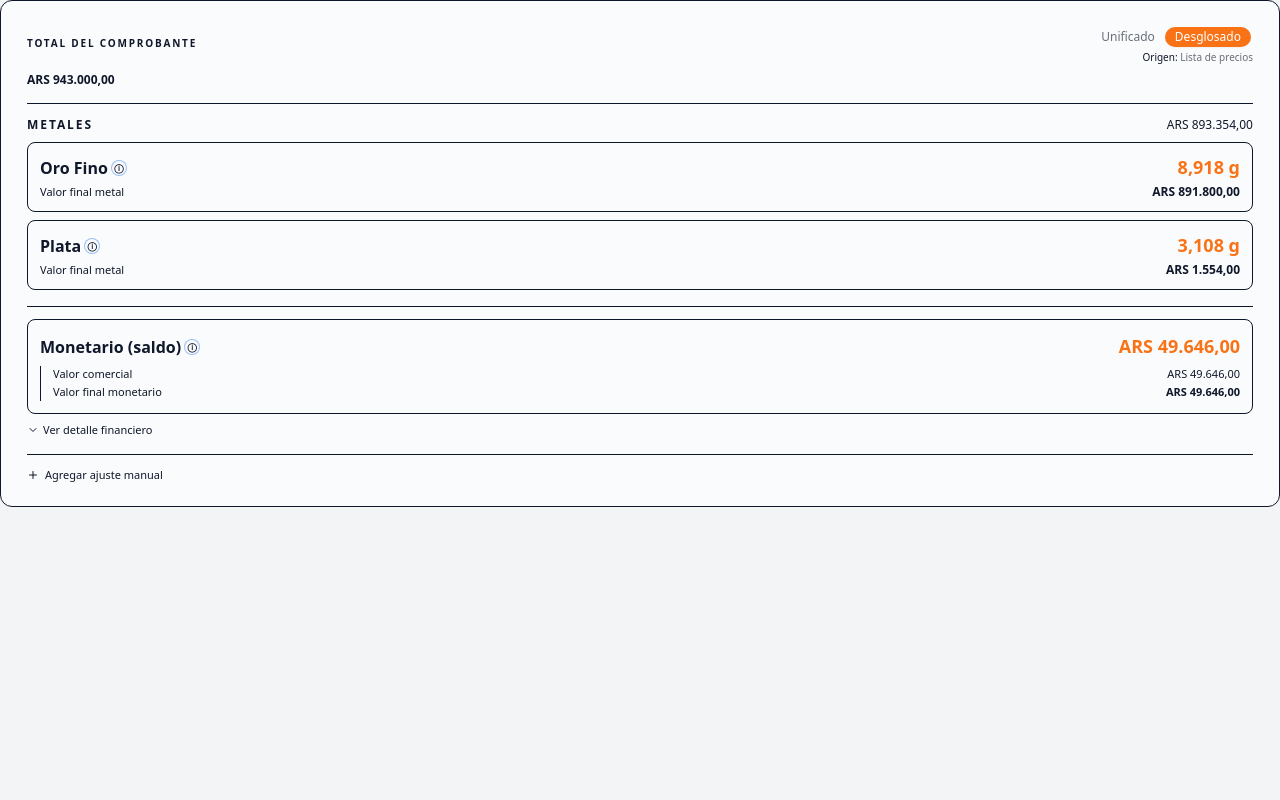
TotalDelComprobanteCard — balanceMode SSOT (BREAKDOWN) › B) balanceMode=BREAKDOWN + metales: label 'Desglosado', editor con filas de metal
The image size is (1280, 800).
expect the element with test id "balance-mode-selector-badge" shows "Desglosado": met, box x1=1165 y1=27 x2=1251 y2=47
Click the button with test id "total-card-manual-adjustment-open" at (95, 475), box x1=27 y1=467 x2=163 y2=484
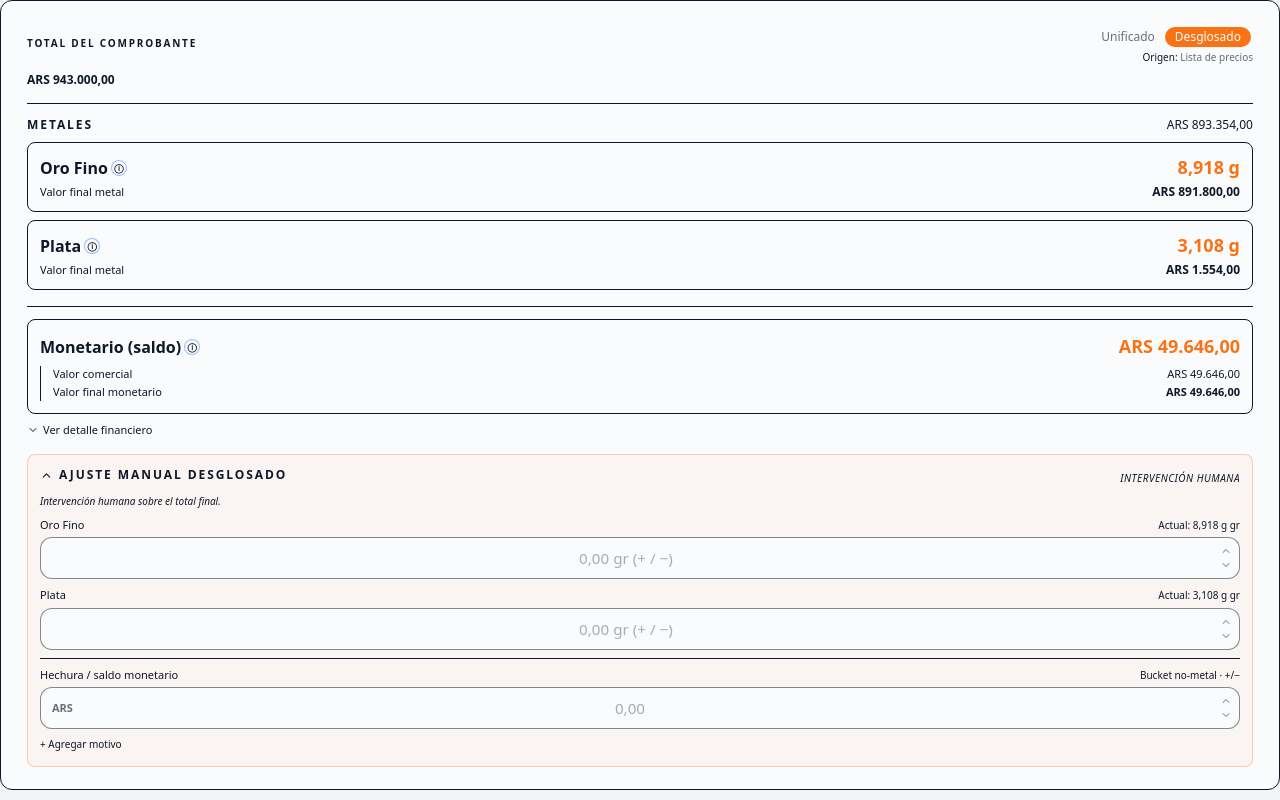
expect the number of elements with test id "total-card-manual-adjustment-metal-row" is 2: met, box x1=40 y1=516 x2=1240 y2=579; x1=40 y1=587 x2=1240 y2=650
